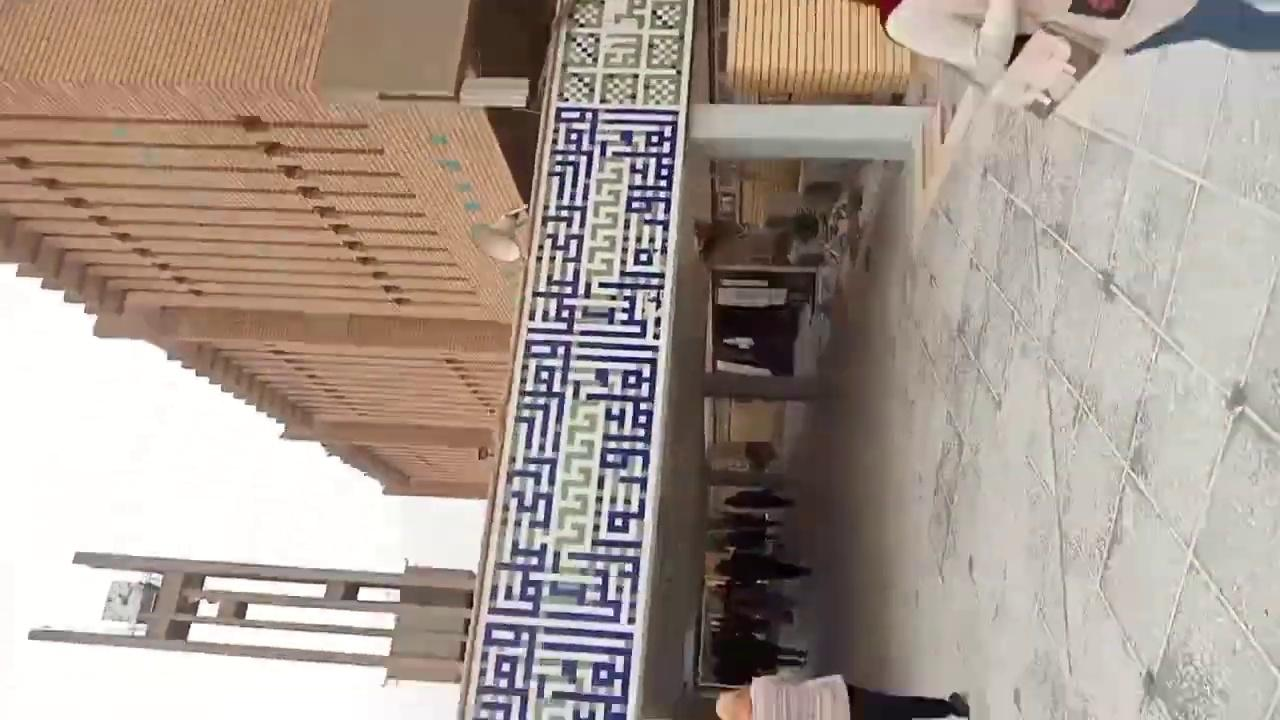person: (843, 0, 1280, 109), (698, 670, 980, 720)
